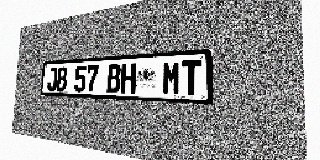5: (74, 66, 87, 92)
7: (86, 65, 99, 93)
B: (107, 64, 121, 93), (56, 67, 67, 92)
H: (121, 63, 136, 94)
J: (47, 67, 58, 91)
M: (162, 61, 181, 95)
T: (181, 59, 202, 96)
